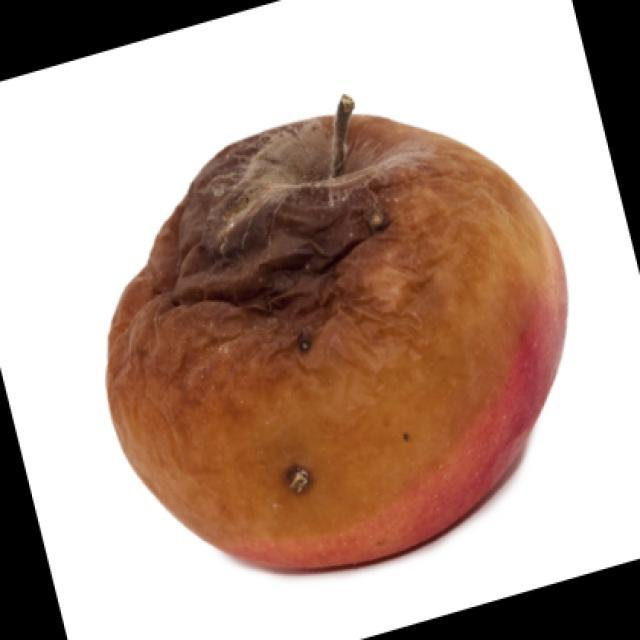Rotten: (105, 99, 572, 568)
